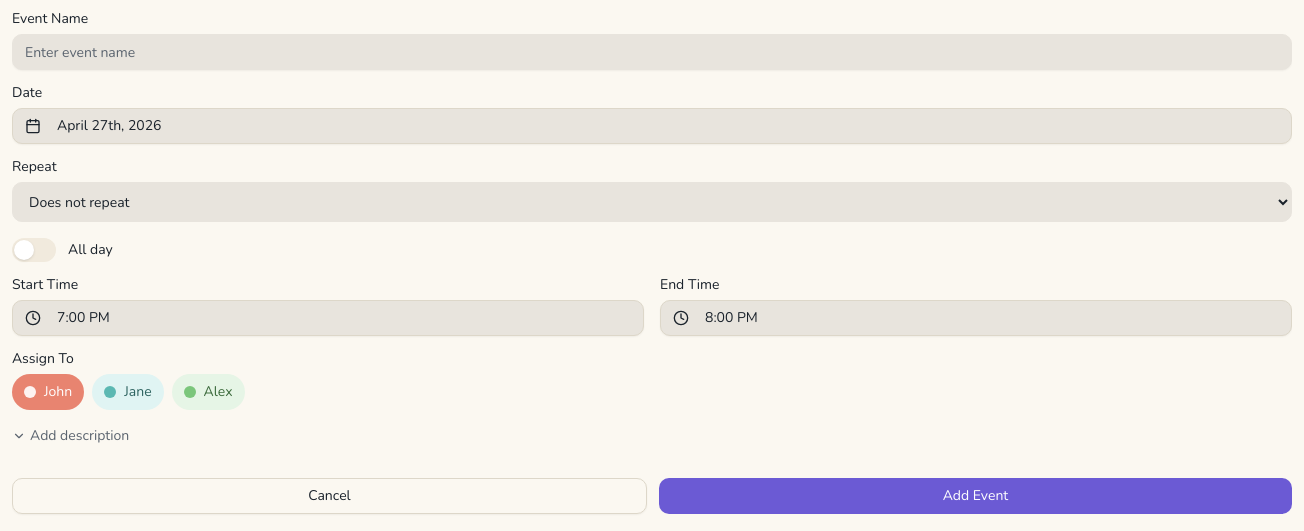
Test: EventForm › All Day Toggle › hides time pickers when all-day is toggled on
This screenshot has width=1304, height=531.
expect the text "Start Time" is shown: met, box [12,275,78,294]
expect the text "End Time" is shown: met, box [660,275,719,294]
# Toggle all-day on
Step 1. Click the switch → (34, 250), box [12,238,56,262]
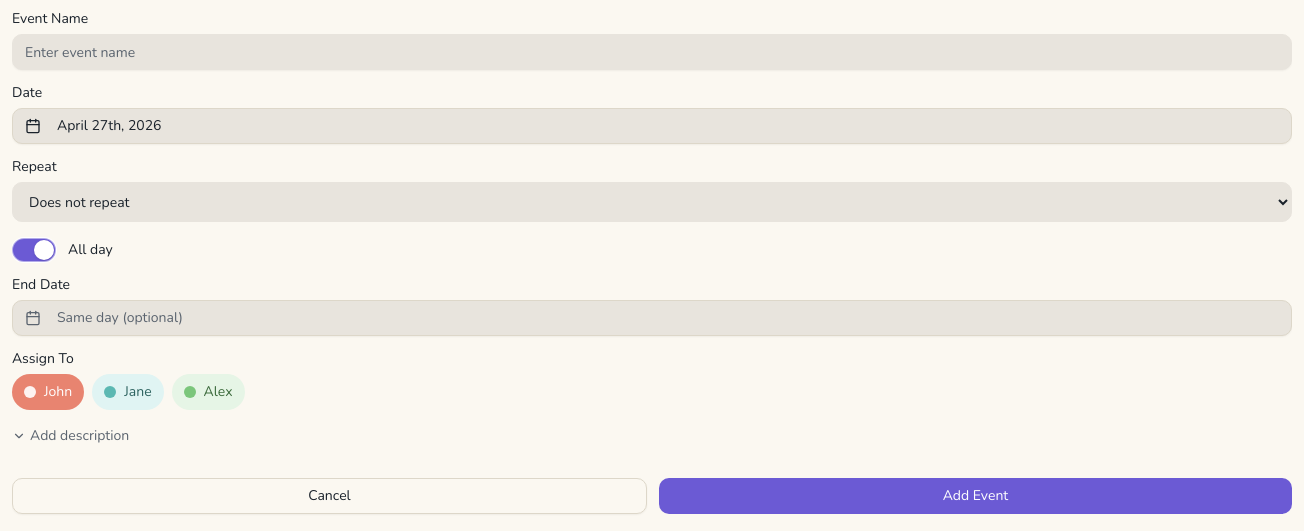
expect the text "Start Time" is gone: met
expect the text "End Time" is gone: met
